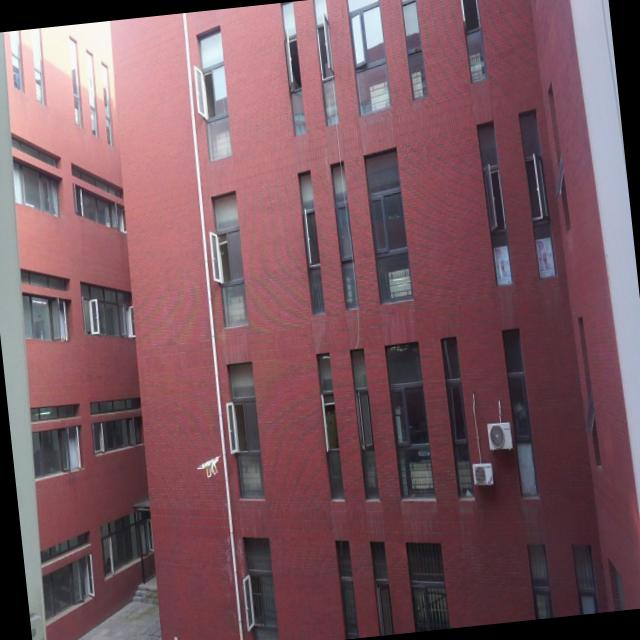drone: (194, 453, 223, 481)
